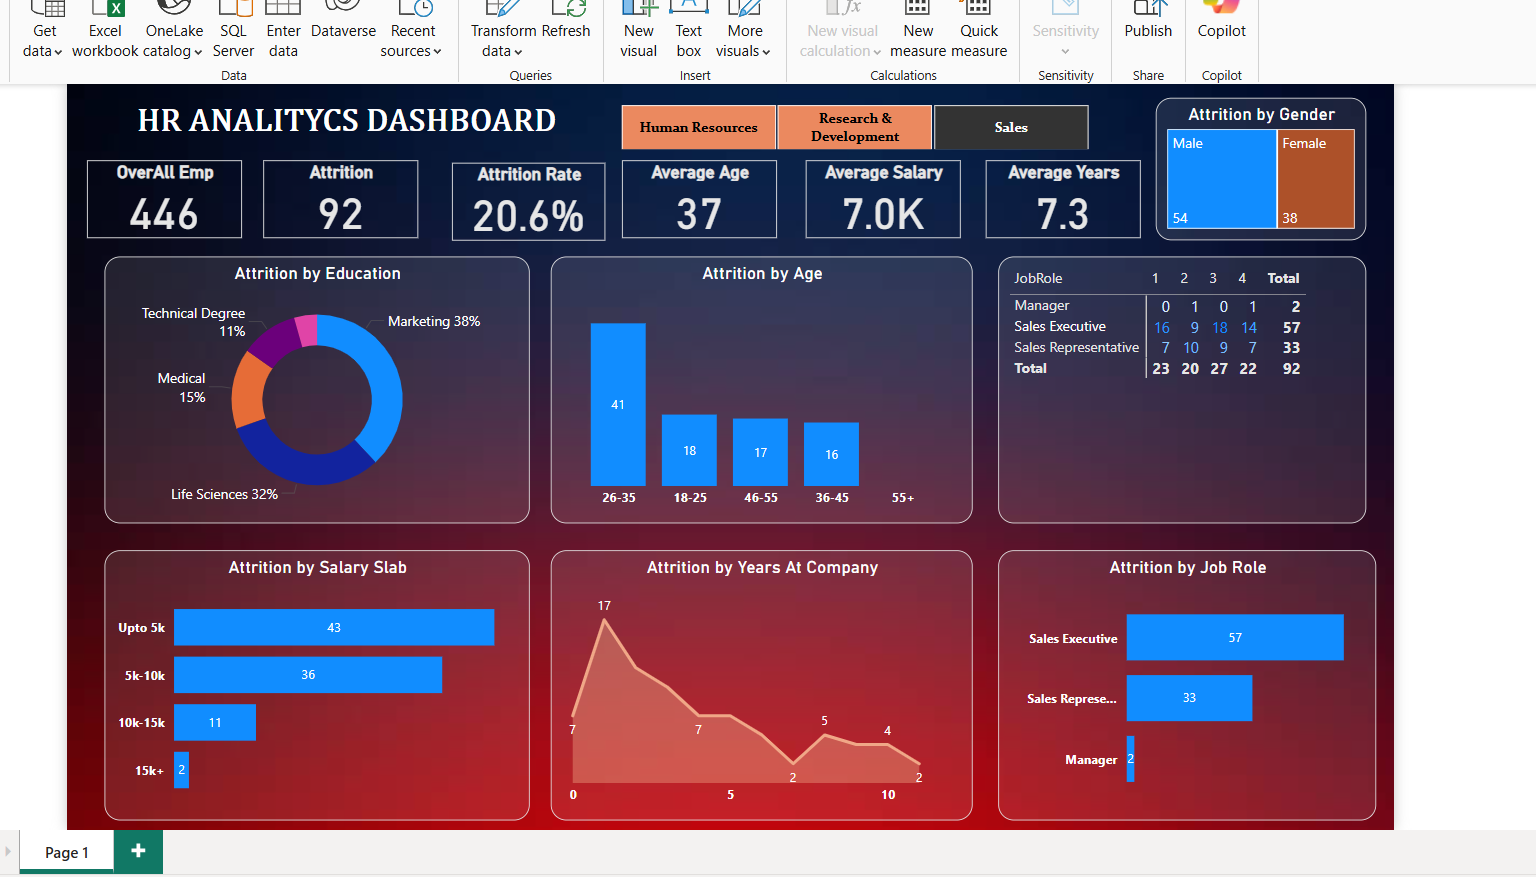

Layout of this report page (visuals, bound fields, positions):
{"tool":"powerbi","page":{"name":"Page 1","canvas":[1280,720],"ordinal":0},"visuals":[{"type":"card","title":"OverAll Emp","fields":{"Values":["CountNonNull(HR_Analytics.EmpID)"]},"box":[19.2,74.1,149.6,75.5],"z":0},{"type":"card","title":"Average Age","fields":{"Values":["Avg(HR_Analytics.Age)"]},"box":[535.2,74.1,149.6,75.5],"z":1000},{"type":"card","title":"Attrition Rate","fields":{"Values":["HR_Analytics.AttritionRate"]},"box":[371.9,75.5,148.2,75.5],"z":2000},{"type":"card","title":"Attrition","fields":{"Values":["Sum(HR_Analytics.AttritionCount)"]},"box":[189.4,74.1,149.6,75.5],"z":3000},{"type":"card","title":"Average Years","fields":{"Values":["Avg(HR_Analytics.YearsAtCompany)"]},"box":[886.5,74.1,149.6,75.5],"z":4000},{"type":"card","title":"Average Salary","fields":{"Values":["Avg(HR_Analytics.MonthlyIncome)"]},"box":[713.6,74.1,149.6,75.5],"z":5000},{"type":"donutChart","title":"Attrition by Education","fields":{"Category":["HR_Analytics.EducationField"],"Y":["Sum(HR_Analytics.AttritionCount)"]},"box":[35.7,166,410.3,258],"z":6000},{"type":"columnChart","title":"Attrition by Age","fields":{"Category":["HR_Analytics.AgeGroup"],"Y":["Sum(HR_Analytics.AttritionCount)"]},"box":[466.6,166,407.5,258],"z":7000},{"type":"pivotTable","fields":{"Rows":["HR_Analytics.JobRole"],"Columns":["HR_Analytics.JobSatisfaction"],"Values":["Sum(HR_Analytics.AttritionCount)"]},"box":[898.8,166,355.4,258],"z":8000},{"type":"barChart","title":"Attrition by Salary Slab","fields":{"Category":["HR_Analytics.SalarySlab"],"Y":["Sum(HR_Analytics.AttritionCount)"]},"box":[35.7,450.1,410.3,260.7],"z":9000},{"type":"barChart","title":"Attrition by Job Role","fields":{"Y":["Sum(HR_Analytics.AttritionCount)"],"Category":["HR_Analytics.JobRole"]},"box":[898.8,450.1,365,260.7],"z":10000},{"type":"areaChart","title":"Attrition by Years At Company","fields":{"Category":["HR_Analytics.YearsAtCompany"],"Y":["Sum(HR_Analytics.AttritionCount)"]},"box":[466.6,450.1,407.5,260.7],"z":11000},{"type":"treemap","title":"Attrition by Gender","fields":{"Group":["HR_Analytics.Gender"],"Values":["Sum(HR_Analytics.AttritionCount)"]},"box":[1051.1,13.7,203.1,137.2],"z":12000},{"type":"slicer","fields":{"Values":["HR_Analytics.Department"]},"box":[509.1,13.7,500.9,49.4],"z":13000},{"type":"textbox","box":[19.2,13.7,500.9,49.4],"z":14000}]}

Visuals, with their boxes on the page's 1280x720 design canvas (x1, y1, x2, y2). These are canvas units, not pixel positions in the 1536x877 screenshot, which may show the page scaled, cropped or inside an application window:
"OverAll Emp" card: BBox(19, 74, 169, 150)
"Average Age" card: BBox(535, 74, 685, 150)
"Attrition Rate" card: BBox(372, 76, 520, 151)
"Attrition" card: BBox(189, 74, 339, 150)
"Average Years" card: BBox(886, 74, 1036, 150)
"Average Salary" card: BBox(714, 74, 863, 150)
"Attrition by Education" donutChart: BBox(36, 166, 446, 424)
"Attrition by Age" columnChart: BBox(467, 166, 874, 424)
pivotTable - HR_Analytics.JobRole x HR_Analytics.JobSatisfaction: BBox(899, 166, 1254, 424)
"Attrition by Salary Slab" barChart: BBox(36, 450, 446, 711)
"Attrition by Job Role" barChart: BBox(899, 450, 1264, 711)
"Attrition by Years At Company" areaChart: BBox(467, 450, 874, 711)
"Attrition by Gender" treemap: BBox(1051, 14, 1254, 151)
slicer - HR_Analytics.Department: BBox(509, 14, 1010, 63)
textbox: BBox(19, 14, 520, 63)
